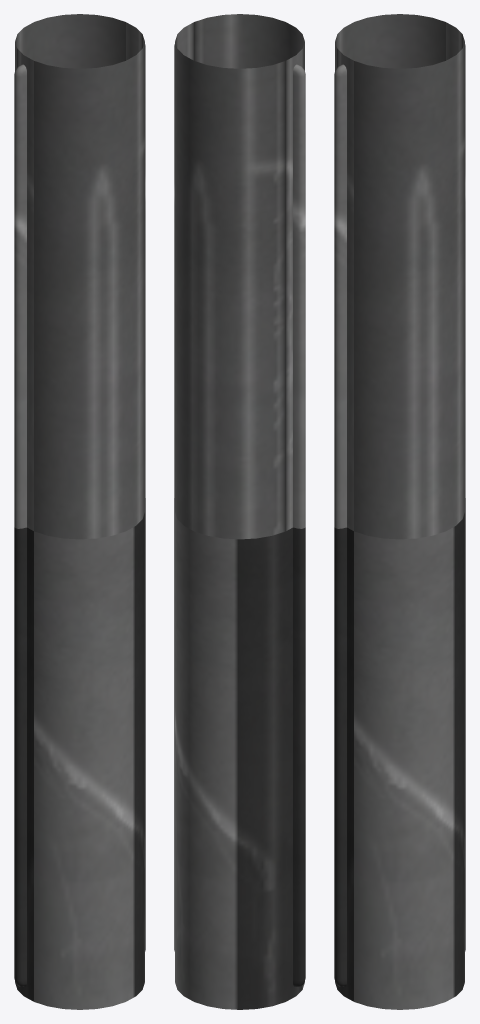
The model's file is black_knight_fuel_tank_s0_4.obj.
The picture shows the model from 3 angles, left to right: view 1: azimuth 90°, elevation 25°; view 2: azimuth 210°, elevation 25°; view 3: azimuth 270°, elevation 25°; orthographic projection.
Parts seen in each view (by area): view 1: mesh1; view 2: mesh1; view 3: mesh1.
Boxes of the visible parts, box(x1,y1,x2,y2) form: mesh1: box(14, 14, 145, 1009); mesh1: box(174, 14, 305, 1009); mesh1: box(334, 14, 465, 1009).
Bounding box in the file's own units: 0.625 × 5 × 0.6329.
